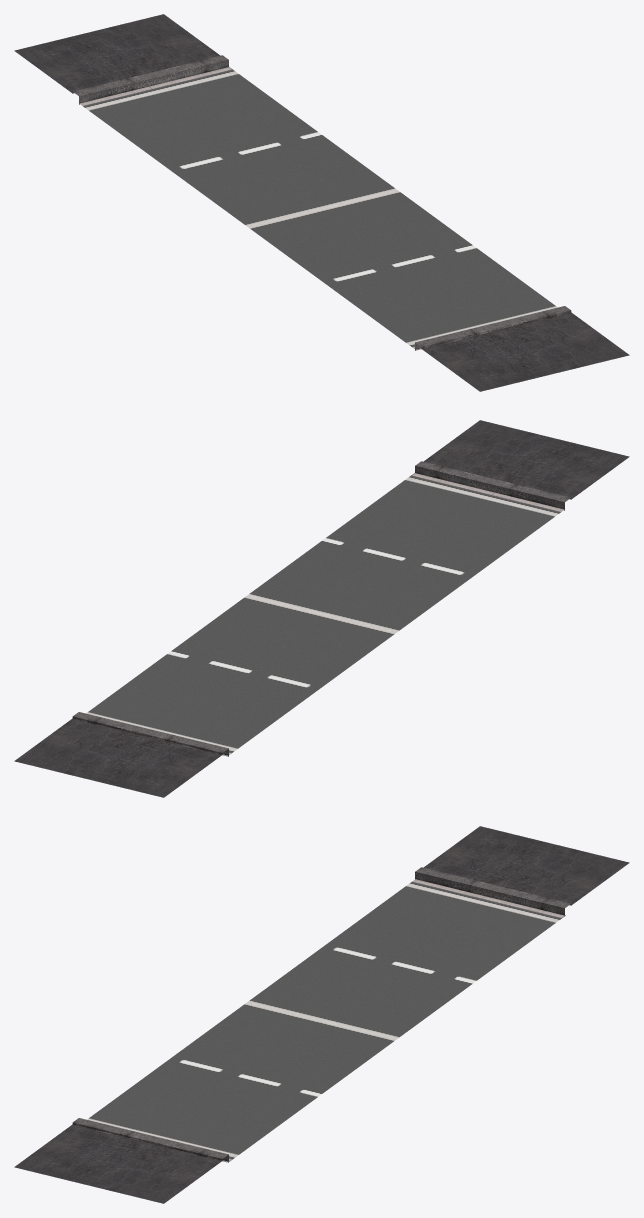
File: 4 lines half.FBX
3 renders of one model, top to bottom at view 1: azimuth 30°, elevation 25°; view 2: azimuth 150°, elevation 25°; view 3: azimuth 330°, elevation 25°, orthographic.
Visible parts, largest first — view 1: Object192; view 2: Object192; view 3: Object192.
Part boxes in pixels (x1,y1,x2,y2): Object192: (14,14,629,391); Object192: (14,420,629,797); Object192: (14,826,629,1203).
Bounding box in the file's own units: 6.02 × 0.3184 × 32.31.
